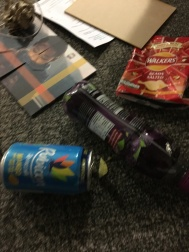bottle_purple: (57, 73, 189, 179)
can_blue: (1, 139, 103, 197)
